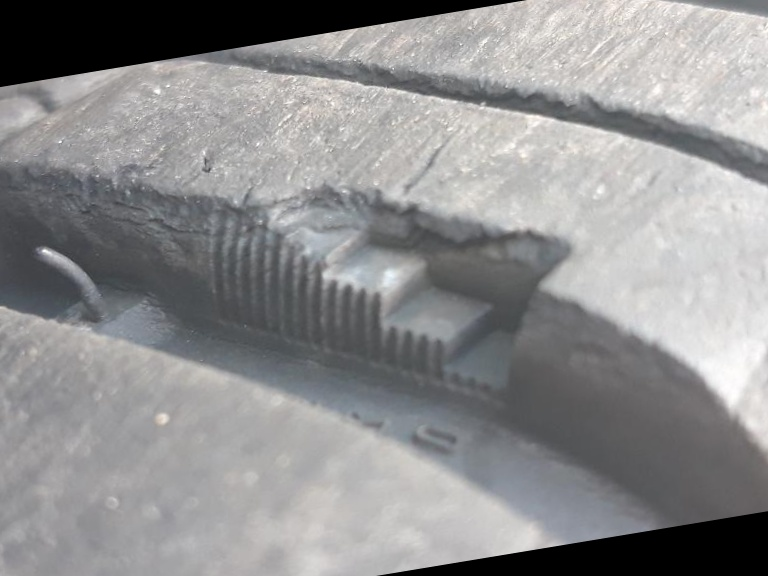temoin:80: (184, 109, 605, 467)
